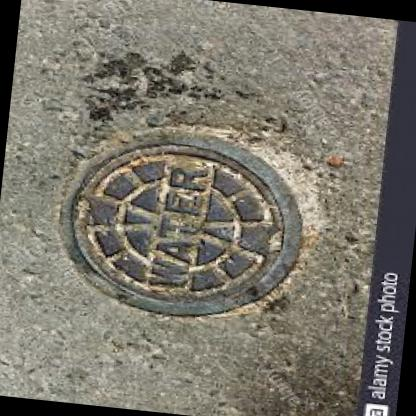manholes: (38, 76, 332, 337)
